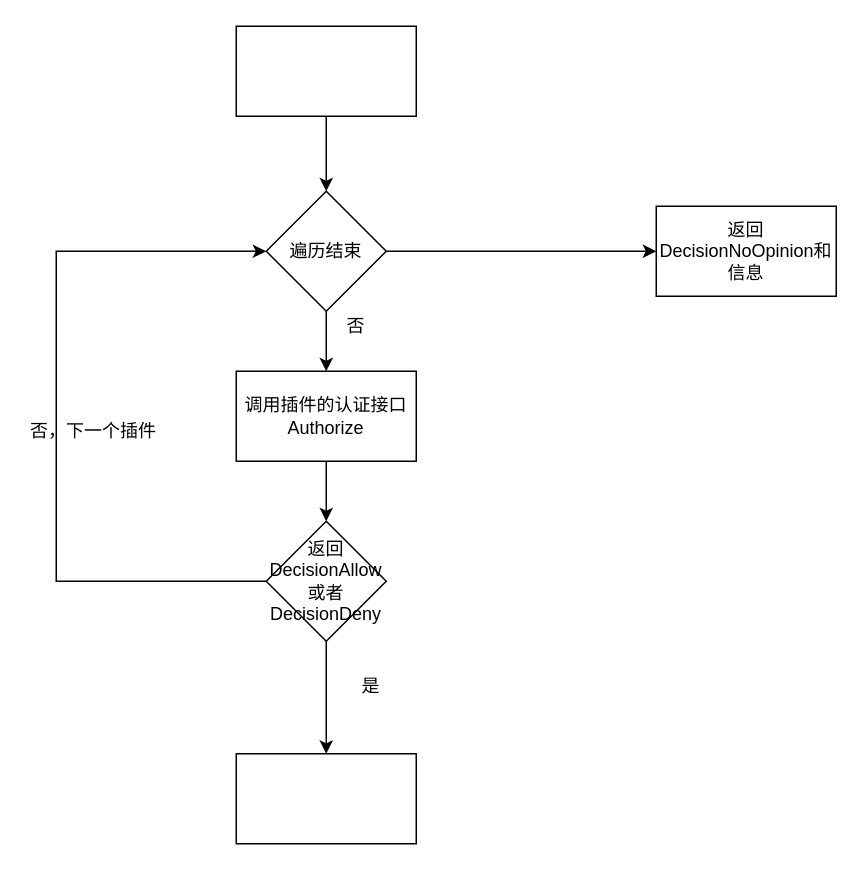
Image size: 863x870. Some labels were removed from this diagram. Here are the shapes that lost their labels. From the top down, the centre of each, then its label:
(x=325, y=70): 遍历所有插件
(x=325, y=798): 返回
